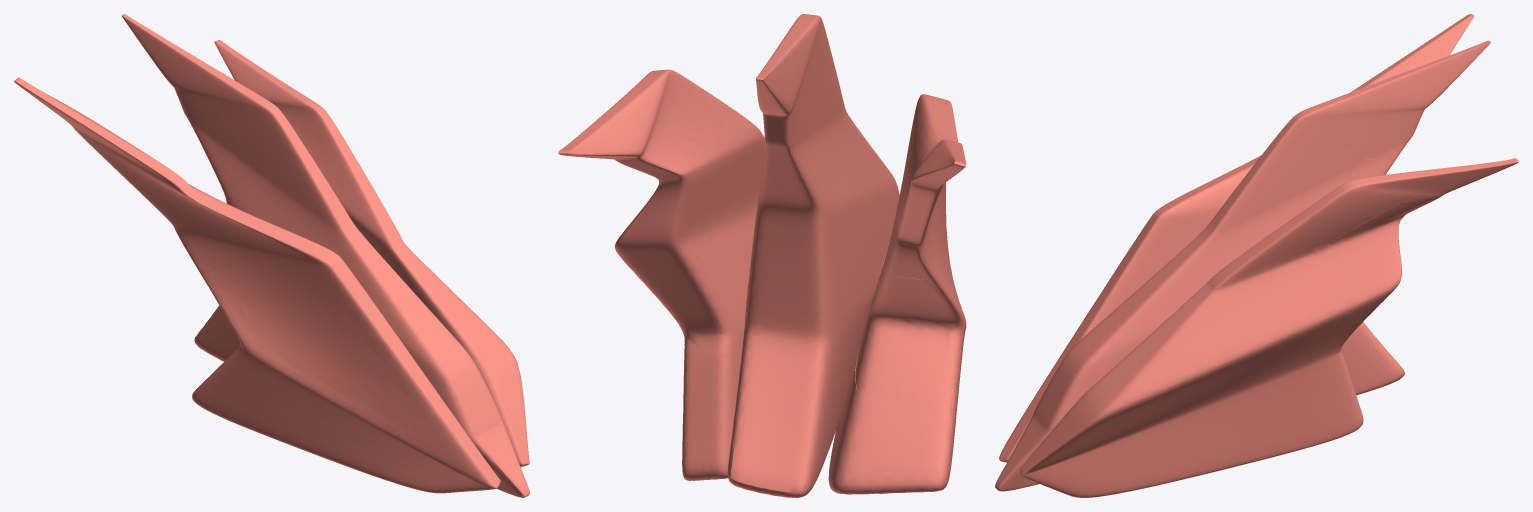
The picture shows the model from 3 angles, left to right: view 1: azimuth 30°, elevation 25°; view 2: azimuth 150°, elevation 25°; view 3: azimuth 270°, elevation 25°; orthographic projection. The views are drawn at different scales.
Visible parts, largest first — view 1: 447; view 2: 447; view 3: 447.
Part boxes in pixels (x1,y1,x2,y2): 447: (14,14,529,497); 447: (558,14,966,497); 447: (995,14,1518,497).
Size of the model in its own units: 55.98 by 75.11 by 58.76.
